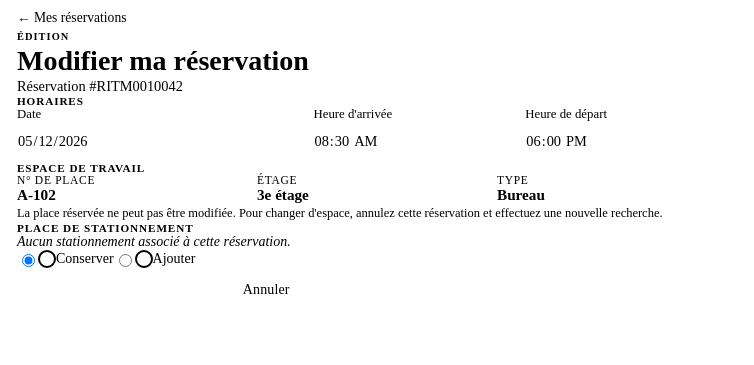
WsbEditPage — US-5.02 date & time validation › shows error when departure is before arrival
This screenshot has width=754, height=365.
Step 1. Replace the text in the time field labelled "Heure d'arrivée" with "14:00" → {"x": 419, "y": 142}, box [314,122,525,162]
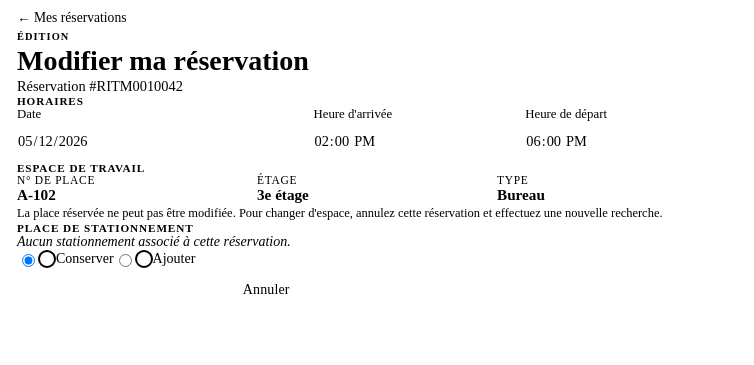
Step 2. Replace the text in the time field labelled "Heure de départ" with "09:00" → {"x": 631, "y": 142}, box [525,122,737,162]
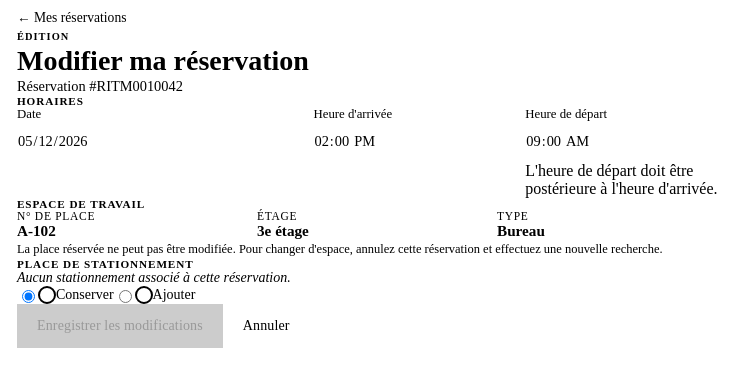
Result: the text "L'heure de départ doit être postérieure à l'heure d'arrivée." is shown at [525,162,737,198]
